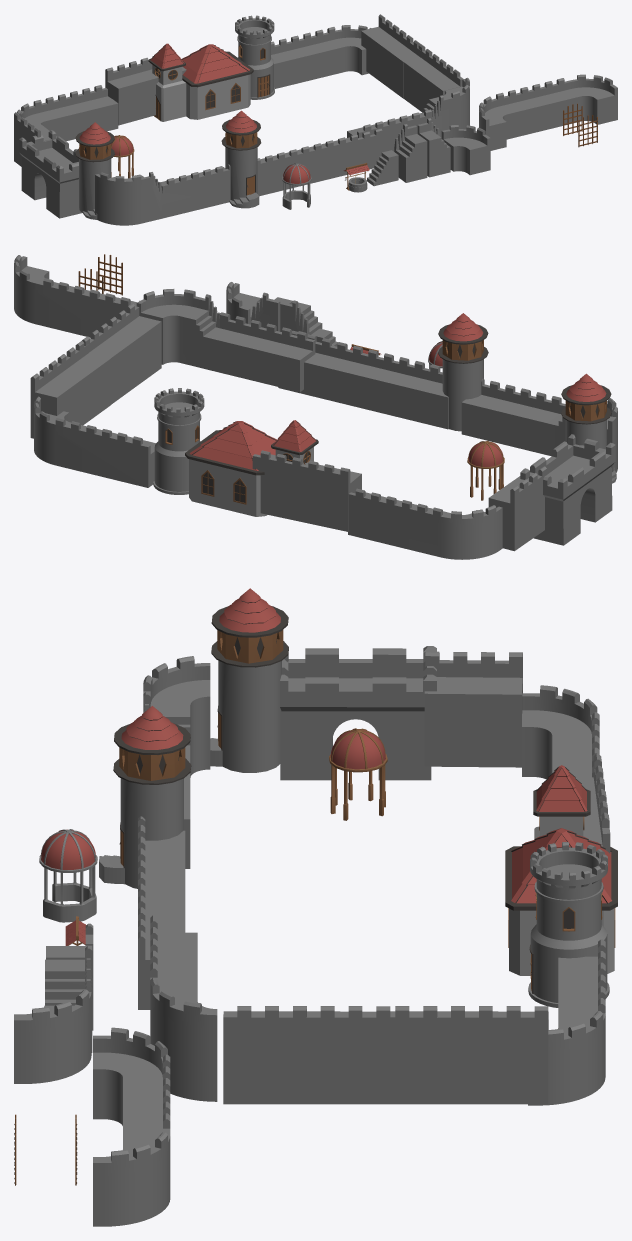
File: Catsle.fbx
3 views of the same model, one above another, from view 1: azimuth 30°, elevation 25°; view 2: azimuth 150°, elevation 25°; view 3: azimuth 270°, elevation 25° (orthographic). The views are drawn at different scales.
Parts seen in each view (by area): view 1: Wall6, Chapel, SteppedWall1, Wall5-1, CastleGate, Wall5, Tower2, Wall3.001, SteppedWall2, Wall3.002, Wall1.001, Tower1 (+13 smaller); view 2: SteppedWall2, Wall5, Chapel, CastleGate, SteppedWall1, Wall5-1, Wall3.002, Wall6, Wall1, Wall3.001, Wall3, Tower1 (+9 smaller); view 3: Wall3, CastleGate, Wall3.001, Wall6, Tower2.001, Wall4, Tower1, Tower2, SteppedWall2, Chapel, Wall5-1, Wall5 (+9 smaller).
Part boxes in pixels (bbox=[...]): Wall6: bbox=[479, 74, 617, 150]; Chapel: bbox=[148, 43, 253, 121]; SteppedWall1: bbox=[95, 164, 230, 225]; Wall5-1: bbox=[271, 25, 371, 88]; CastleGate: bbox=[19, 130, 81, 218]; Wall5: bbox=[17, 85, 118, 141]; Tower2: bbox=[221, 110, 261, 208]; Wall3.001: bbox=[361, 14, 420, 98]; SteppedWall2: bbox=[347, 77, 469, 152]; Wall3.002: bbox=[105, 56, 186, 125]; Wall1.001: bbox=[309, 128, 382, 182]; Tower1: bbox=[235, 15, 274, 99]; SteppedWall2: bbox=[136, 289, 315, 391]; Wall5: bbox=[348, 488, 502, 559]; Chapel: bbox=[185, 420, 318, 516]; CastleGate: bbox=[520, 434, 615, 545]; SteppedWall1: bbox=[461, 378, 617, 472]; Wall5-1: bbox=[34, 396, 155, 487]; Wall3.002: bbox=[252, 450, 361, 531]; Wall6: bbox=[14, 255, 139, 337]; Wall1: bbox=[355, 349, 448, 429]; Wall3.001: bbox=[30, 341, 110, 438]; Wall3: bbox=[82, 303, 161, 404]; Tower1: bbox=[153, 388, 204, 494]; Wall3: bbox=[223, 1006, 390, 1104]; CastleGate: bbox=[280, 646, 436, 780]; Wall3.001: bbox=[390, 1006, 548, 1104]; Wall6: bbox=[93, 1027, 170, 1226]; Tower2.001: bbox=[210, 588, 288, 772]; Wall4: bbox=[424, 651, 522, 767]; Tower1: bbox=[528, 842, 609, 1007]; Tower2: bbox=[99, 706, 191, 888]; SteppedWall2: bbox=[150, 915, 217, 1101]; Chapel: bbox=[505, 765, 617, 975]; Wall5-1: bbox=[528, 939, 605, 1105]; Wall5: bbox=[522, 685, 599, 779].
Bounding box in the file's own units: 5927 × 1053 × 3055.
